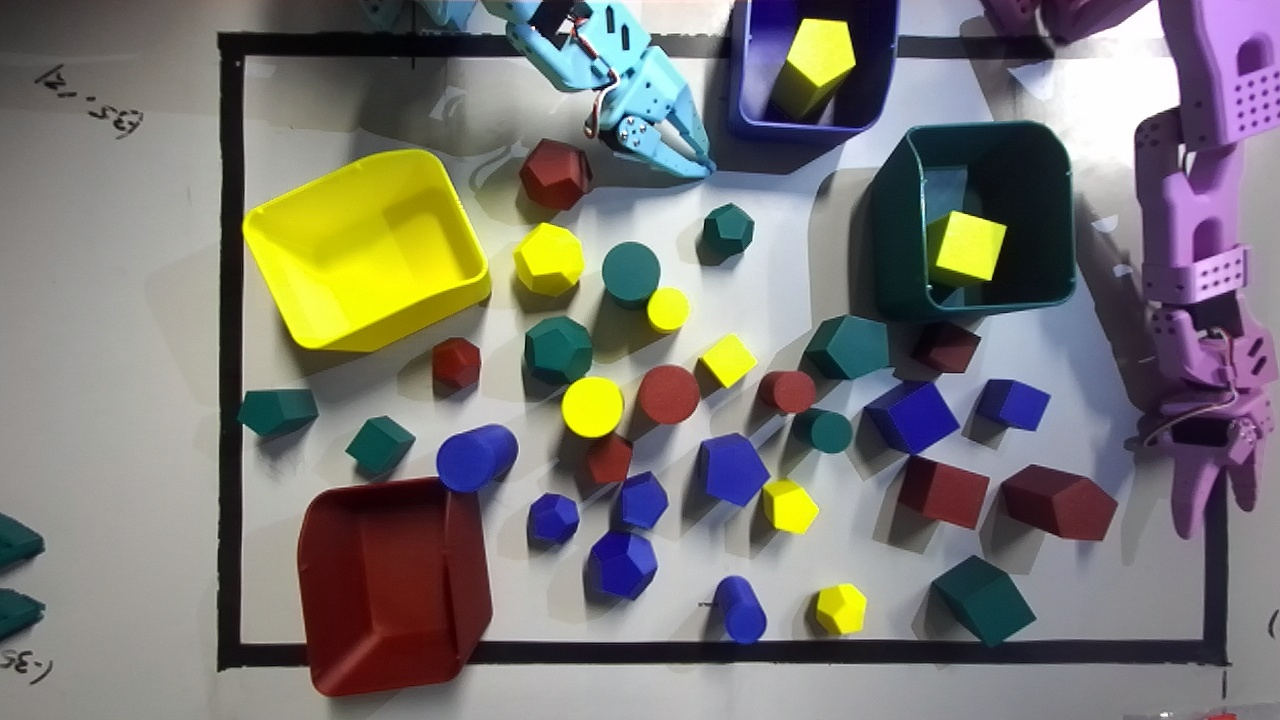bin: (297, 436, 491, 695), (242, 149, 490, 350), (872, 121, 1075, 321), (729, 0, 897, 146)
cube: (932, 555, 1035, 646), (864, 381, 958, 454), (898, 456, 988, 529), (927, 211, 1006, 286), (345, 416, 415, 477), (975, 379, 1050, 430), (911, 322, 980, 372), (699, 333, 756, 387)
cylinder: (436, 424, 517, 492), (602, 242, 660, 308), (561, 377, 623, 437), (636, 365, 699, 423), (712, 576, 766, 643), (791, 408, 853, 453), (757, 371, 815, 413), (646, 287, 689, 331)
dodecahedron: (519, 139, 592, 210), (513, 223, 583, 296), (587, 531, 657, 599), (524, 316, 592, 383), (702, 203, 754, 256), (527, 493, 578, 545), (432, 337, 480, 392), (816, 583, 866, 634)
hexagonal: (770, 18, 855, 122), (1001, 464, 1116, 540), (804, 315, 888, 378), (697, 433, 769, 506), (236, 389, 318, 436), (762, 478, 818, 533), (616, 471, 667, 528), (585, 432, 632, 483)
